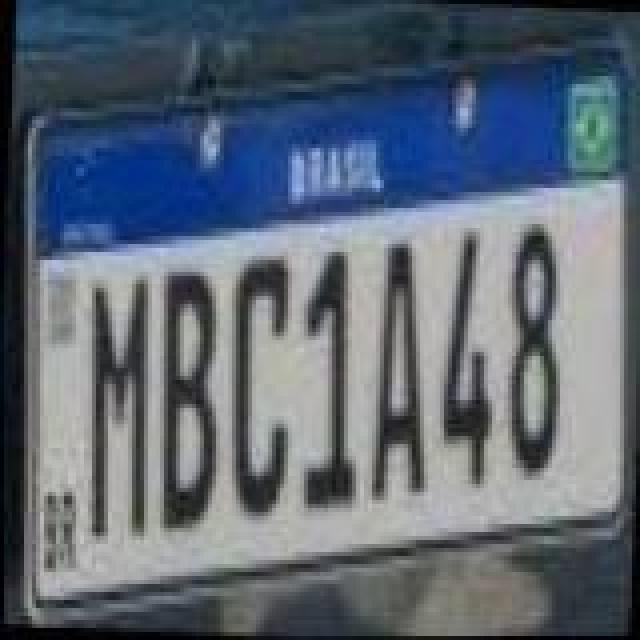1: (292, 242, 368, 514)
4: (432, 226, 500, 490)
8: (498, 222, 570, 482)
A: (366, 244, 438, 504)
B: (148, 262, 224, 534)
C: (220, 246, 296, 518)
M: (72, 272, 156, 544)
